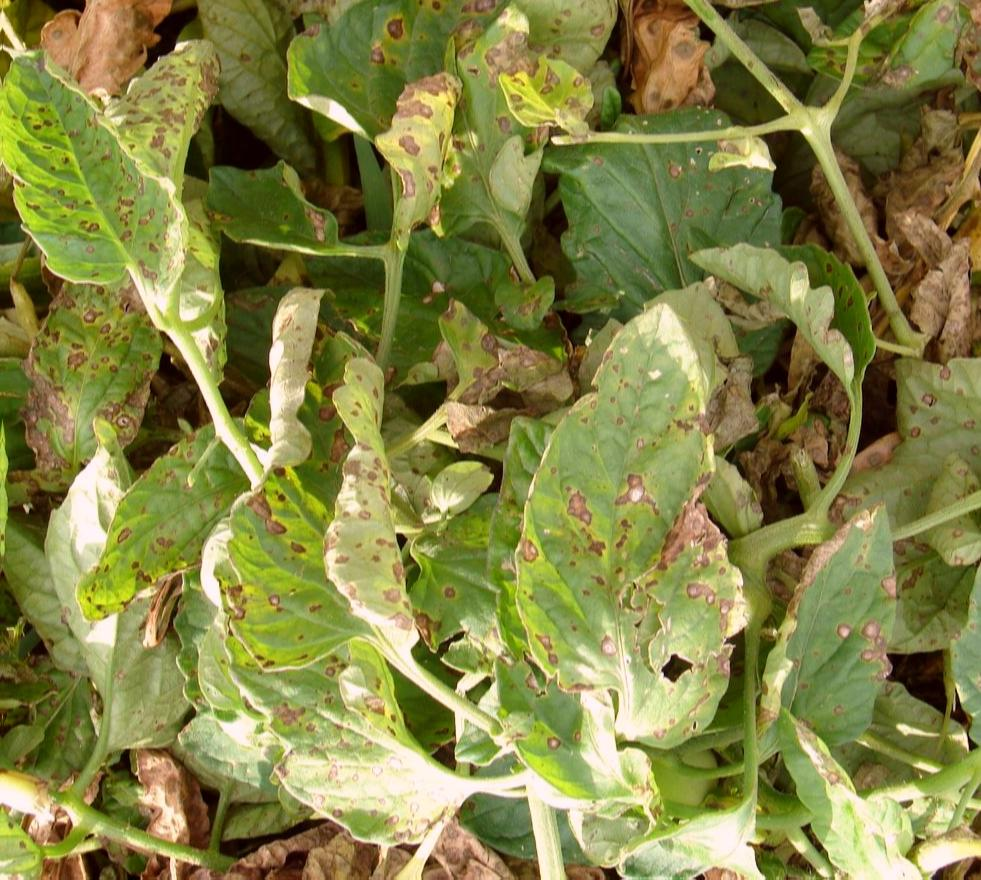Tomato Septoria leaf spot: (514, 288, 758, 758), (174, 575, 471, 867), (226, 346, 423, 679), (0, 34, 193, 305), (747, 489, 923, 768), (74, 389, 268, 626), (279, 0, 454, 222)
